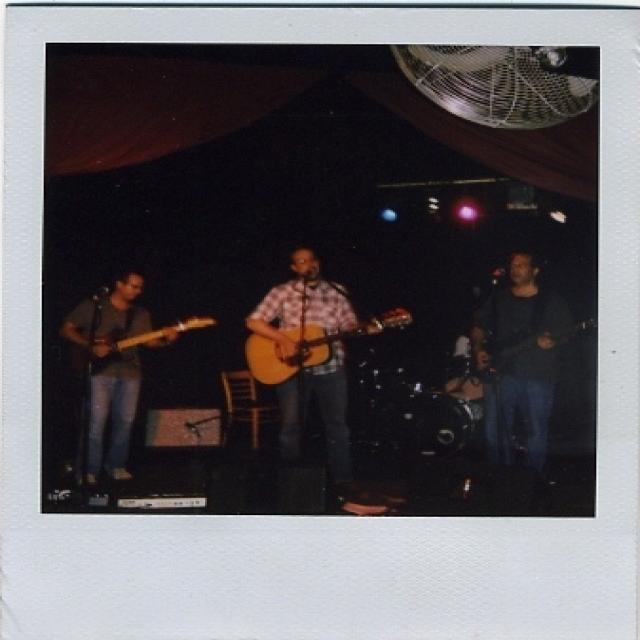chair: (214, 368, 278, 453)
person: (244, 248, 383, 501), (467, 251, 581, 489), (58, 270, 179, 488)
